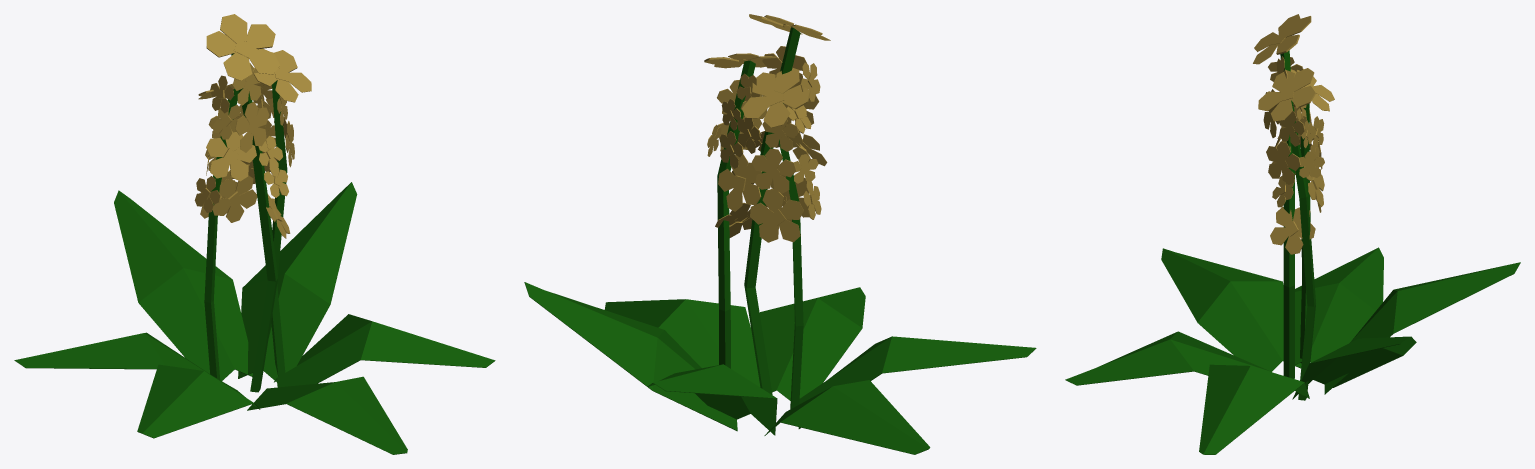
The model's file is FlowerPot.fbx.
The picture shows the model from 3 angles, left to right: view 1: azimuth 30°, elevation 25°; view 2: azimuth 150°, elevation 25°; view 3: azimuth 270°, elevation 25°; orthographic projection. The views are drawn at different scales.
Visible parts, largest first — view 1: FlowerPot6; view 2: FlowerPot6; view 3: FlowerPot6.
Part boxes in pixels (left/top/right/bottom): FlowerPot6: left=14, top=14, right=495, bottom=454; FlowerPot6: left=524, top=14, right=1036, bottom=454; FlowerPot6: left=1065, top=14, right=1520, bottom=454.
Bounding box in the file's own units: 95.41 × 88.52 × 102.
